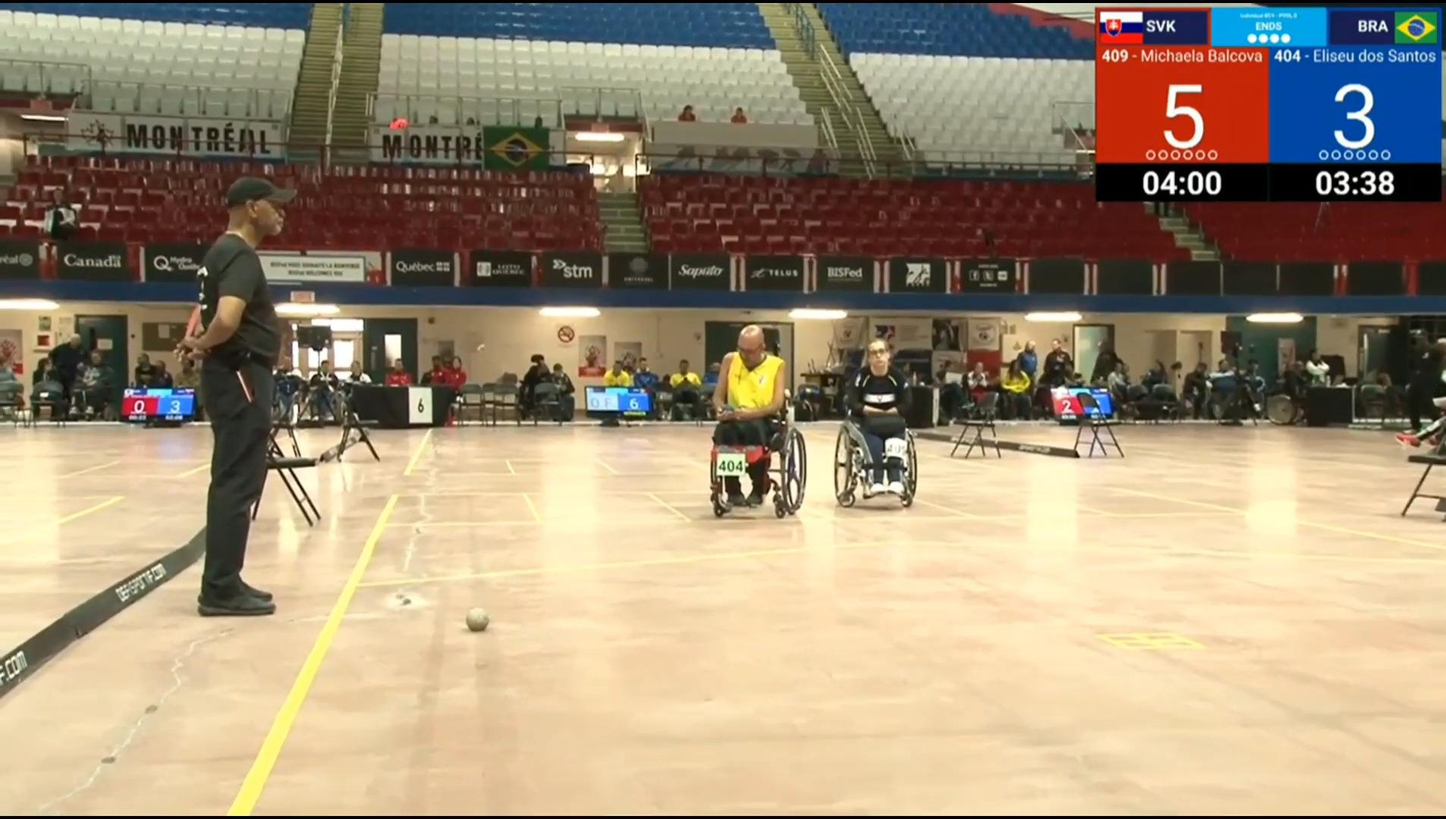white_ball: (466, 607, 488, 631)
